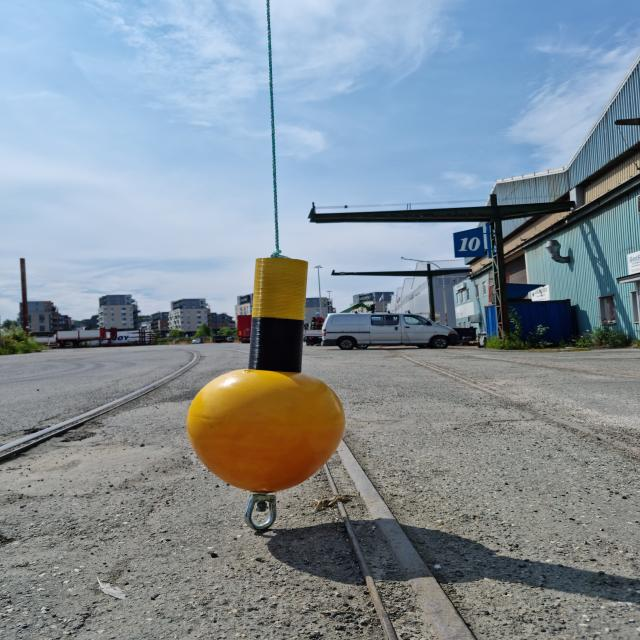west: (184, 256, 346, 493)
